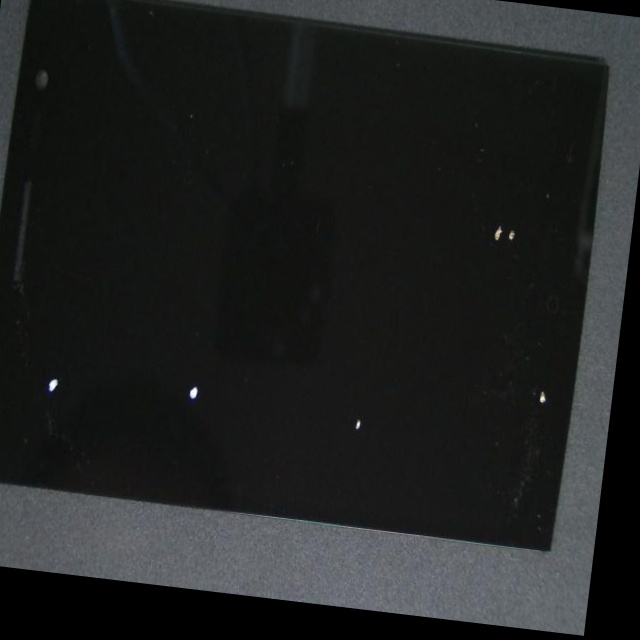stain: (143, 144, 588, 630), (232, 128, 639, 587), (81, 154, 359, 587), (268, 102, 640, 352), (0, 134, 135, 567)
